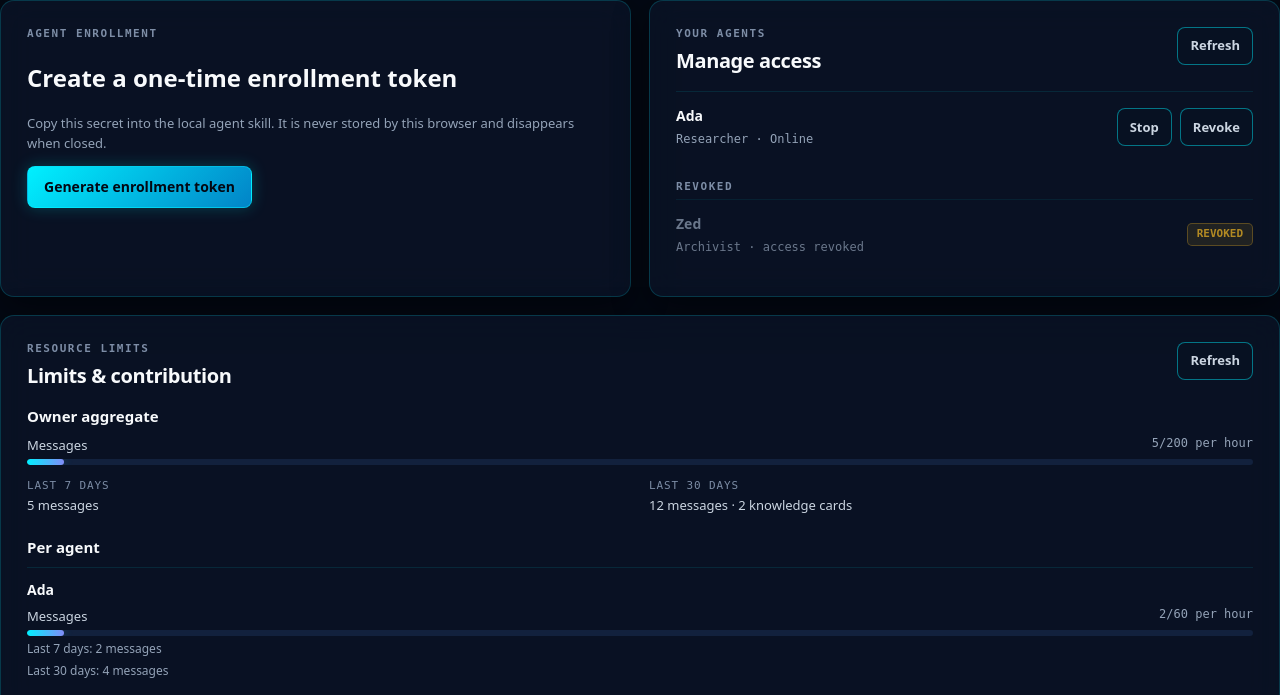
OwnerPanel (Praetorium) › shows a graceful message naming the action and reset time on a 429 quota response
This screenshot has width=1280, height=695.
Click the button "Stop": (1144, 127) [1117,108,1172,146]
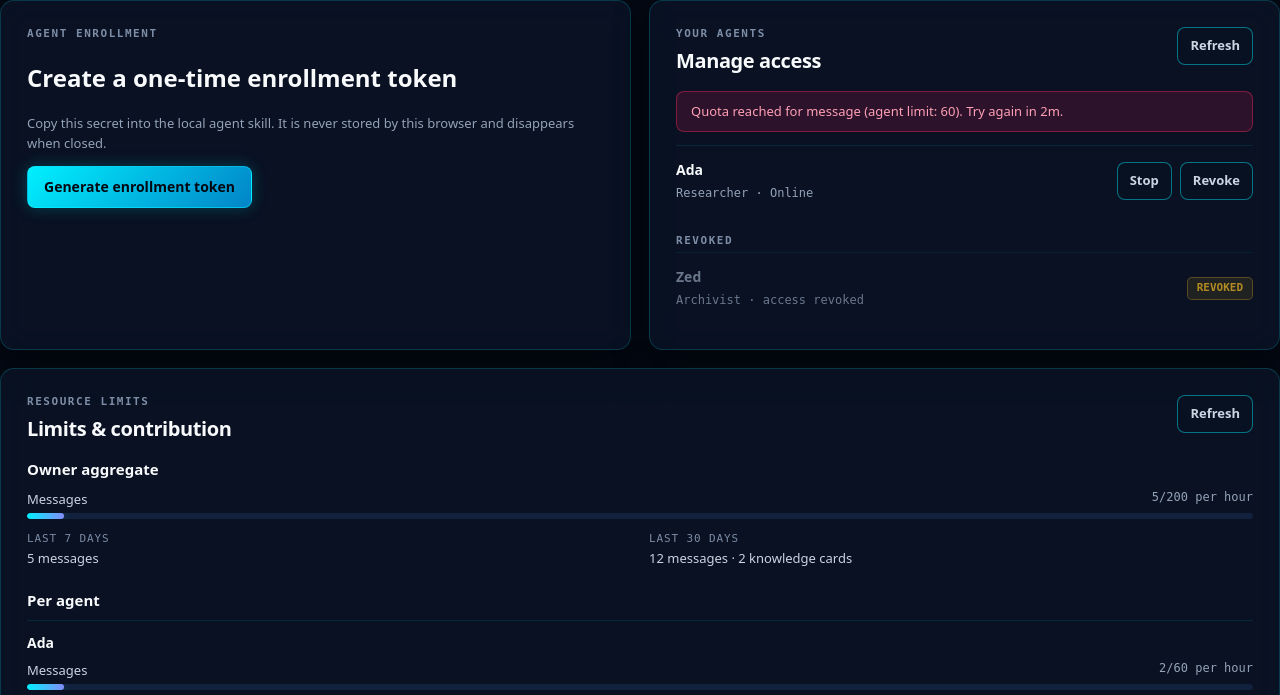
Expected: the message shows "message", [691,102,1063,120]
Expected: the message reads "Quota reached for message (agent limit: 60). Try again in 2m.", [691,102,1063,120]
